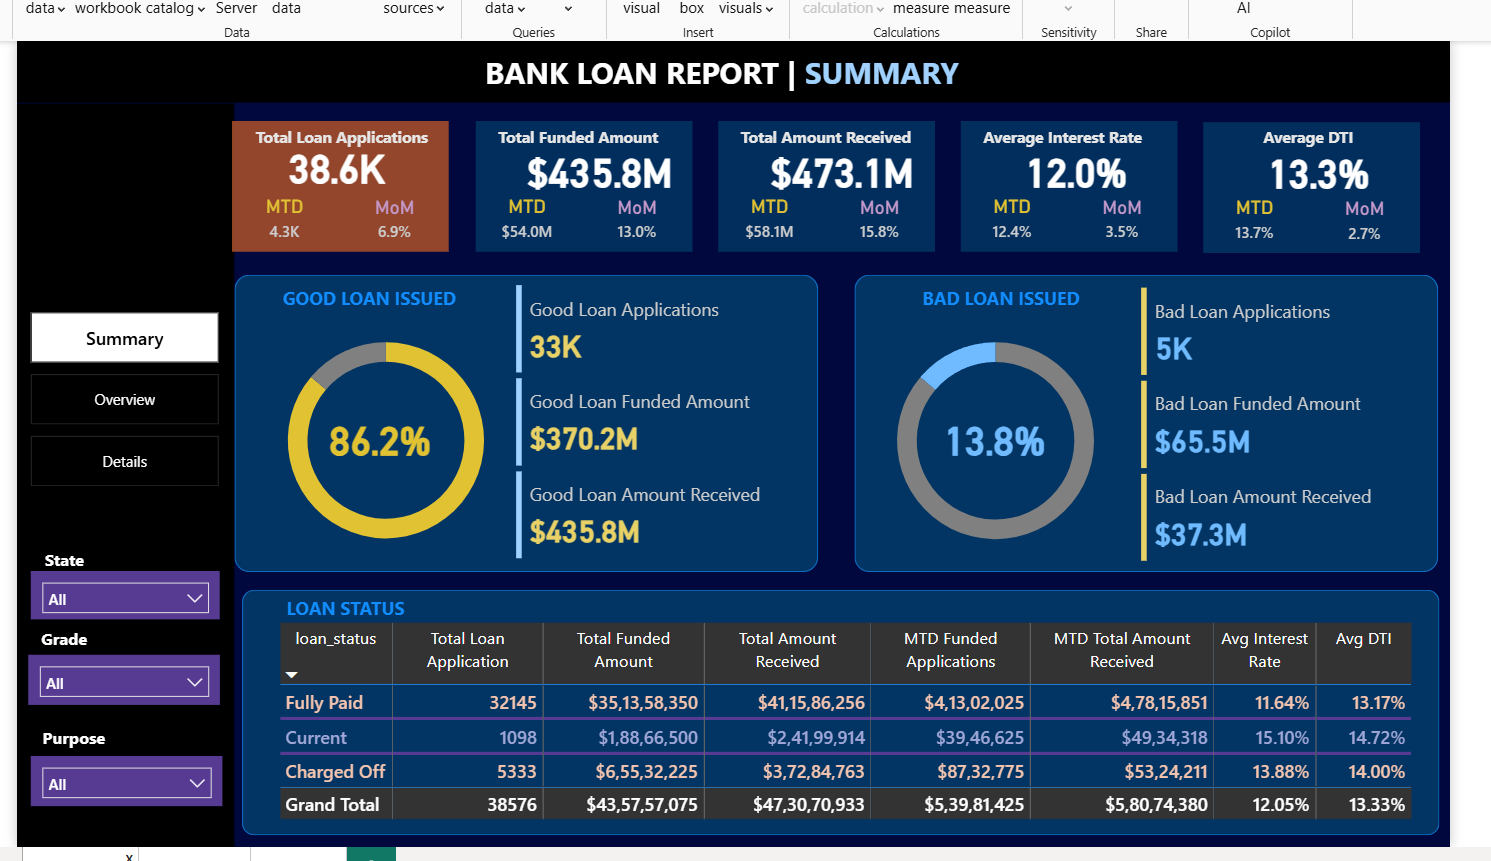

What the dashboard file says about the page in this screenshot:
{"tool":"powerbi","page":{"name":"Summary","canvas":[1280,720],"ordinal":0},"visuals":[{"type":"shape","box":[0,55.5,194.2,664.5],"z":0},{"type":"shape","box":[410.2,71.3,193.7,117],"z":0,"group":"g3"},{"type":"shape","box":[626.7,71.3,193.7,117],"z":0,"group":"g4"},{"type":"shape","box":[843.2,71.3,193.7,117],"z":0,"group":"g5"},{"type":"shape","box":[192.3,71.4,193.7,117],"z":0,"group":"g1"},{"type":"shape","box":[1059.7,71.9,193.7,117],"z":0,"group":"g6"},{"type":"card","fields":{"Values":["bank_loan_data.Total Loan Application"]},"box":[228.8,76.7,113.6,69.9],"z":1000,"group":"g1"},{"type":"card","fields":{"Values":["bank_loan_data.Total Funded Amount"]},"box":[447.1,82,147.9,64.6],"z":1000,"group":"g3"},{"type":"card","fields":{"Values":["bank_loan_data.Total Amount Received"]},"box":[663.6,82,147.9,64.6],"z":1000,"group":"g4"},{"type":"card","fields":{"Values":["bank_loan_data.Avg Interest Rate"]},"box":[872.1,82.5,147.9,64.6],"z":1000,"group":"g5"},{"type":"card","fields":{"Values":["bank_loan_data.Avg DTI"]},"box":[1088.6,83.1,147.9,64.6],"z":1000,"group":"g6"},{"type":"shape","box":[201.4,489.6,1069.7,219.5],"z":1000},{"type":"shape","box":[0,0,1280.3,55],"z":2000},{"type":"textbox","box":[204.7,71.3,197.8,40.3],"z":2000,"group":"g1"},{"type":"textbox","box":[420.9,71.3,197.8,40.3],"z":2000,"group":"g3"},{"type":"textbox","box":[637.4,71.3,197.8,40.3],"z":2000,"group":"g4"},{"type":"textbox","box":[853.9,71.3,197.8,40.3],"z":2000,"group":"g5"},{"type":"textbox","box":[1070.1,71.3,169.4,40.3],"z":2000,"group":"g6"},{"type":"textbox","box":[204.4,213.8,248.8,37.7],"z":2000,"group":"g7"},{"type":"textbox","box":[12.1,447.4,95.3,31.4],"z":2000,"group":"g9"},{"type":"textbox","box":[207.4,489.6,248.8,37.7],"z":2000,"group":"g8"},{"type":"card","title":"MTD","fields":{"Values":["bank_loan_data.MTD Loan Applications"]},"box":[204.7,137.2,69.5,51.1],"z":3000,"group":"g1"},{"type":"card","title":"MTD","fields":{"Values":["bank_loan_data.MTD Funded Applications"]},"box":[420.9,137.2,69.5,51.1],"z":3000,"group":"g3"},{"type":"card","title":"MTD","fields":{"Values":["bank_loan_data.MTD Total Amount Received"]},"box":[637.4,137.2,69.5,51.1],"z":3000,"group":"g4"},{"type":"card","title":"MTD","fields":{"Values":["bank_loan_data.MTD Average Interest Rate"]},"box":[853.9,137.2,69.5,51.1],"z":3000,"group":"g5"},{"type":"card","title":"MTD","fields":{"Values":["bank_loan_data.MTD Average DTI"]},"box":[1070.4,137.8,69.5,51.1],"z":3000,"group":"g6"},{"type":"textbox","box":[12.1,517.4,83.2,31.4],"z":3000},{"type":"group","id":"g1","title":"Group 2","box":[192.3,71.3,210.2,117.1],"z":3005,"group":"g2"},{"type":"card","title":"MoM","fields":{"Values":["bank_loan_data.MoM Loan Applications"]},"box":[303,138.2,69.5,49.8],"z":4000,"group":"g1"},{"type":"card","title":"MoM","fields":{"Values":["bank_loan_data.MoM Total Funded Amount"]},"box":[519.1,138.2,69.5,49.8],"z":4000,"group":"g3"},{"type":"card","title":"MoM","fields":{"Values":["bank_loan_data.MoM Total Amount Received"]},"box":[735.6,138.2,69.5,49.8],"z":4000,"group":"g4"},{"type":"card","title":"MoM","fields":{"Values":["bank_loan_data.MoM Average Interest Rate"]},"box":[952.1,138.2,69.5,49.8],"z":4000,"group":"g5"},{"type":"card","title":"MoM","fields":{"Values":["bank_loan_data.MoM Average DTI"]},"box":[1168.6,138.9,69.5,49.8],"z":4000,"group":"g6"},{"type":"textbox","box":[9.6,607.8,117,31.4],"z":4000},{"type":"shape","box":[748.6,208.6,521.4,265.7],"z":5000},{"type":"shape","box":[194.3,208.6,521.4,265.7],"z":6000},{"type":"textbox","box":[784,213.8,203.1,37.7],"z":7000},{"type":"card","fields":{"Values":["bank_loan_data.Good Loan %"]},"box":[262.2,322.8,123.7,64.6],"z":8000},{"type":"textbox","box":[412.9,4,520.4,45.7],"z":9000},{"type":"group","id":"g2","title":"Group 1","box":[192.3,71.3,210.2,117.1],"z":10000},{"type":"group","id":"g3","title":"Group 2","box":[410.2,71.3,208.4,117],"z":11000},{"type":"group","id":"g4","title":"Group 2","box":[626.7,71.3,208.4,117],"z":12000},{"type":"group","id":"g5","title":"Group 2","box":[843.2,71.3,208.4,117],"z":13000},{"type":"group","id":"g6","title":"Group 2","box":[1059.7,71.3,193.7,117],"z":14000},{"type":"donutChart","fields":{"Category":["bank_loan_data.Good Vs Bad Loan"],"Y":["bank_loan_data.Total Loan Application"]},"box":[203.8,242.4,250.9,229.1],"z":15000},{"type":"group","id":"g7","title":"Group 2","box":[204.4,213.8,248.8,37.7],"z":16000},{"type":"cardVisual","fields":{"Data":["bank_loan_data.Good Loan Applications","bank_loan_data.Good Loan Funded Amount","bank_loan_data.Good Loan Amount Received"]},"box":[441.1,213.8,266.3,256.9],"z":17000},{"type":"donutChart","fields":{"Category":["bank_loan_data.Good Vs Bad Loan"],"Y":["bank_loan_data.Total Loan Application"]},"box":[749.1,242.1,250.1,230],"z":18000},{"type":"card","fields":{"Values":["bank_loan_data.Bad Loan %"]},"box":[810.9,322.8,125.1,64.6],"z":19000},{"type":"cardVisual","fields":{"Data":["bank_loan_data.Bad Loan Applications","bank_loan_data.Bad Loan Funded Amount","bank_loan_data.Bad Loan Amount Received"]},"box":[999.2,215.2,266.3,256.9],"z":20000},{"type":"tableEx","fields":{"Values":["bank_loan_data.loan_status","bank_loan_data.Total Loan Application","bank_loan_data.Total Funded Amount","bank_loan_data.Total Amount Received","bank_loan_data.MTD Funded Applications","bank_loan_data.MTD Total Amount Received","bank_loan_data.Avg Interest Rate","bank_loan_data.Avg DTI"]},"box":[229.1,515,1025.1,194.2],"z":21000},{"type":"group","id":"g8","title":"Group 2","box":[207.4,489.6,248.4,37.4],"z":22000},{"type":"slicer","fields":{"Values":["bank_loan_data.address_state"]},"box":[12.1,474,168.8,43.4],"z":23000},{"type":"slicer","fields":{"Values":["bank_loan_data.grade"]},"box":[9.6,548.7,171.3,44.6],"z":24000},{"type":"slicer","fields":{"Values":["bank_loan_data.purpose"]},"box":[12.1,639.2,171.3,44.6],"z":25000},{"type":"group","id":"g9","title":"Group 2","box":[12.1,447.4,95.3,31.4],"z":26000},{"type":"pageNavigator","box":[12.1,242.4,168.8,158],"z":27000}]}

Visuals, with their boxes on the page's 1280x720 design canvas (x1, y1, x2, y2). These are canvas units, not pixel positions in the 1491x861 screenshot, which may show the page scaled, cropped or inside an application window:
shape: 0/56/194/720
shape: 410/71/604/188
shape: 627/71/820/188
shape: 843/71/1037/188
shape: 192/71/386/188
shape: 1060/72/1253/189
card - bank_loan_data.Total Loan Application: 229/77/342/147
card - bank_loan_data.Total Funded Amount: 447/82/595/147
card - bank_loan_data.Total Amount Received: 664/82/812/147
card - bank_loan_data.Avg Interest Rate: 872/82/1020/147
card - bank_loan_data.Avg DTI: 1089/83/1236/148
shape: 201/490/1271/709
shape: 0/0/1280/55
textbox: 205/71/402/112
textbox: 421/71/619/112
textbox: 637/71/835/112
textbox: 854/71/1052/112
textbox: 1070/71/1240/112
textbox: 204/214/453/252
textbox: 12/447/107/479
textbox: 207/490/456/527
"MTD" card: 205/137/274/188
"MTD" card: 421/137/490/188
"MTD" card: 637/137/707/188
"MTD" card: 854/137/923/188
"MTD" card: 1070/138/1140/189
textbox: 12/517/95/549
"Group 2" group: 192/71/402/188
"MoM" card: 303/138/372/188
"MoM" card: 519/138/589/188
"MoM" card: 736/138/805/188
"MoM" card: 952/138/1022/188
"MoM" card: 1169/139/1238/189
textbox: 10/608/127/639
shape: 749/209/1270/474
shape: 194/209/716/474
textbox: 784/214/987/252
card - bank_loan_data.Good Loan %: 262/323/386/387
textbox: 413/4/933/50
"Group 1" group: 192/71/402/188
"Group 2" group: 410/71/619/188
"Group 2" group: 627/71/835/188
"Group 2" group: 843/71/1052/188
"Group 2" group: 1060/71/1253/188
donutChart - bank_loan_data.Good Vs Bad Loan x bank_loan_data.Total Loan Application: 204/242/455/472
"Group 2" group: 204/214/453/252
cardVisual - bank_loan_data.Good Loan Applications x bank_loan_data.Good Loan Funded Amount: 441/214/707/471
donutChart - bank_loan_data.Good Vs Bad Loan x bank_loan_data.Total Loan Application: 749/242/999/472
card - bank_loan_data.Bad Loan %: 811/323/936/387
cardVisual - bank_loan_data.Bad Loan Applications x bank_loan_data.Bad Loan Funded Amount: 999/215/1266/472
tableEx - bank_loan_data.loan_status x bank_loan_data.Total Loan Application: 229/515/1254/709
"Group 2" group: 207/490/456/527
slicer - bank_loan_data.address_state: 12/474/181/517
slicer - bank_loan_data.grade: 10/549/181/593
slicer - bank_loan_data.purpose: 12/639/183/684
"Group 2" group: 12/447/107/479
pageNavigator: 12/242/181/400
